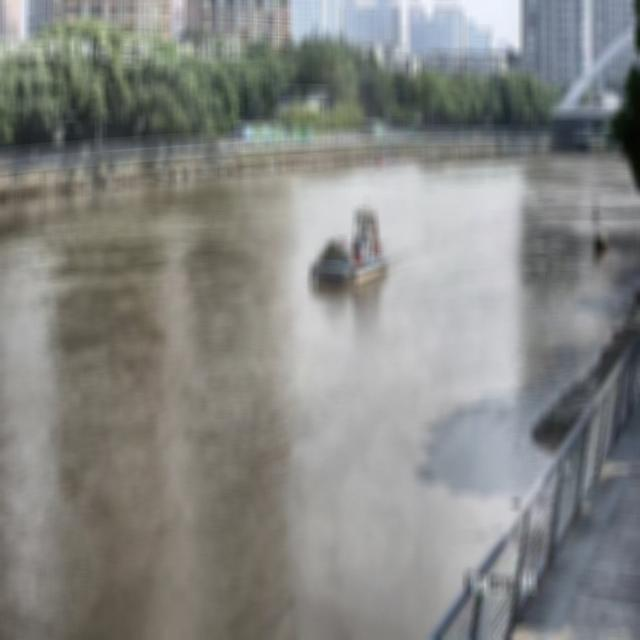ship: (310, 198, 388, 284)
